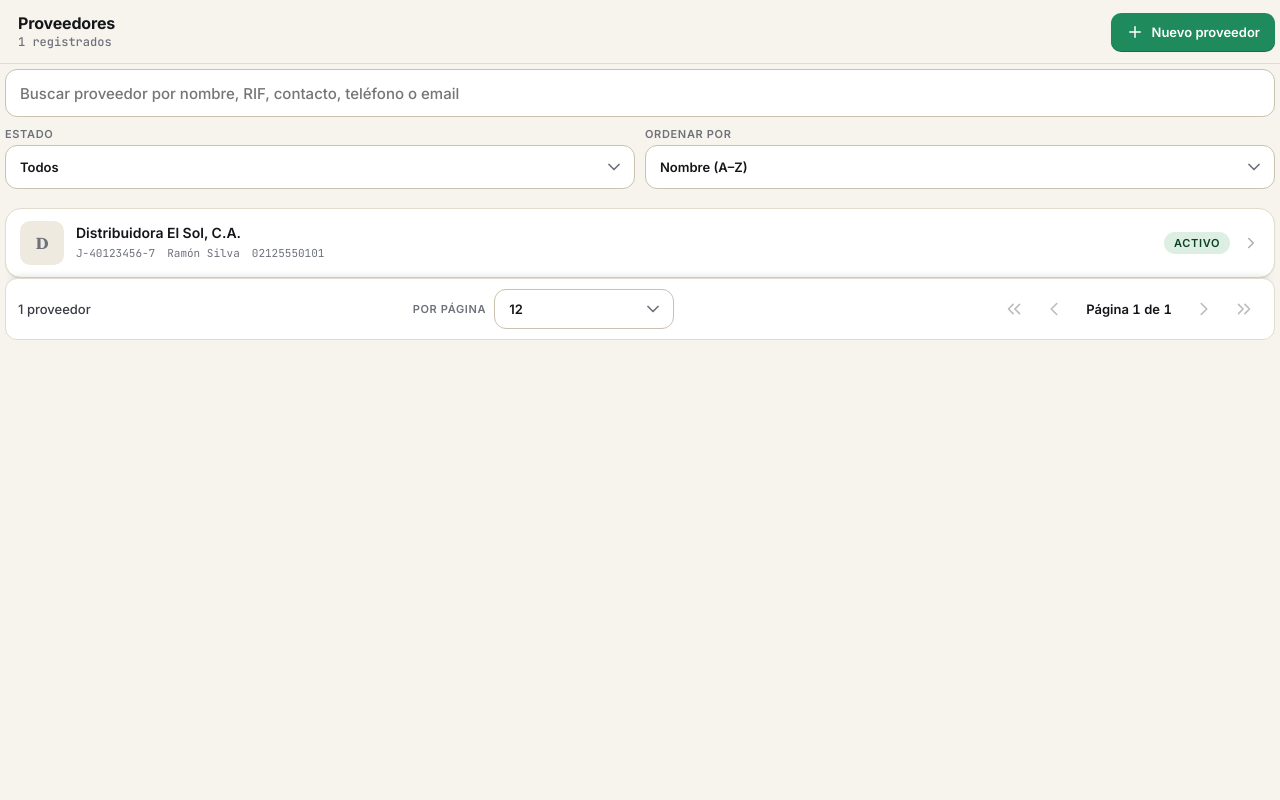
Registrar compra — the two amount fields mirror each other › typing a $ total fills the Bs field, and the last field typed wins
Click the text "Distribuidora El Sol, C.A.": (42, 243) [6,209,1274,277]
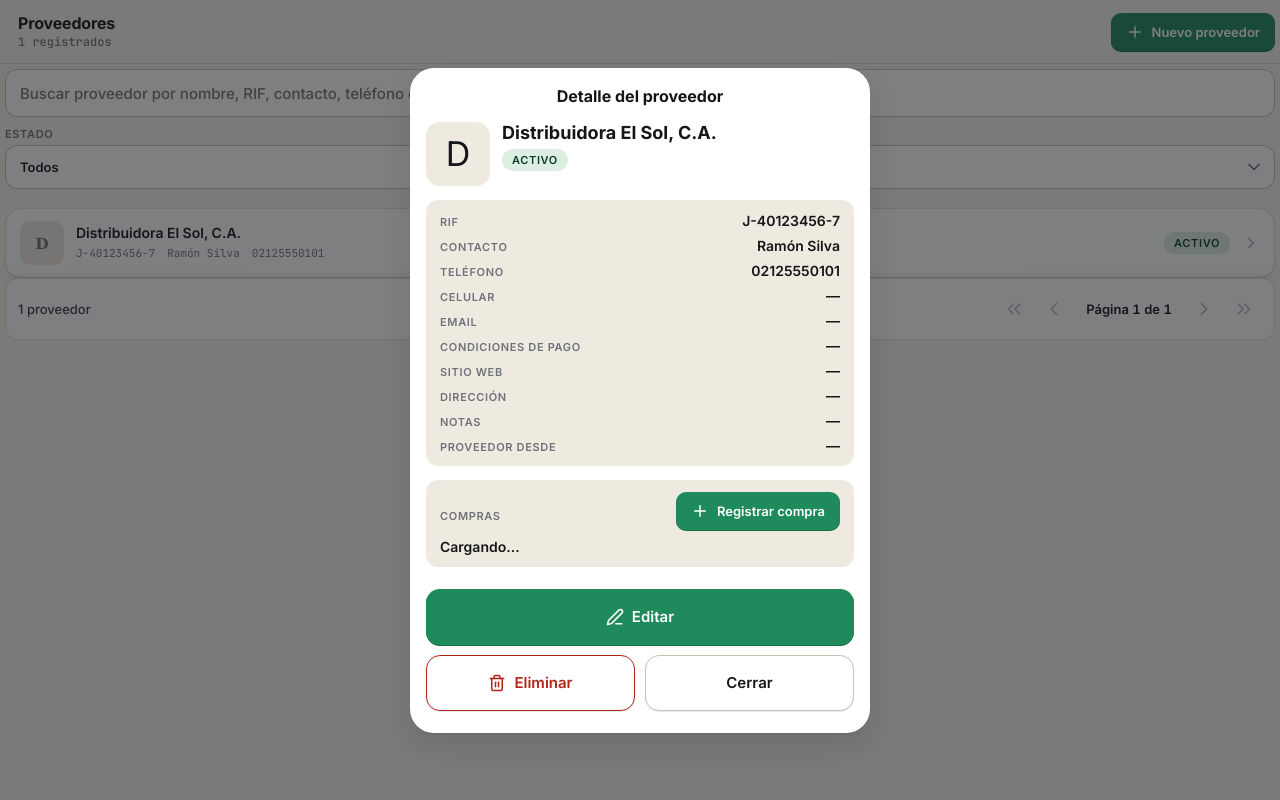
Click the button "Registrar compra": (758, 510) [676,492,840,530]
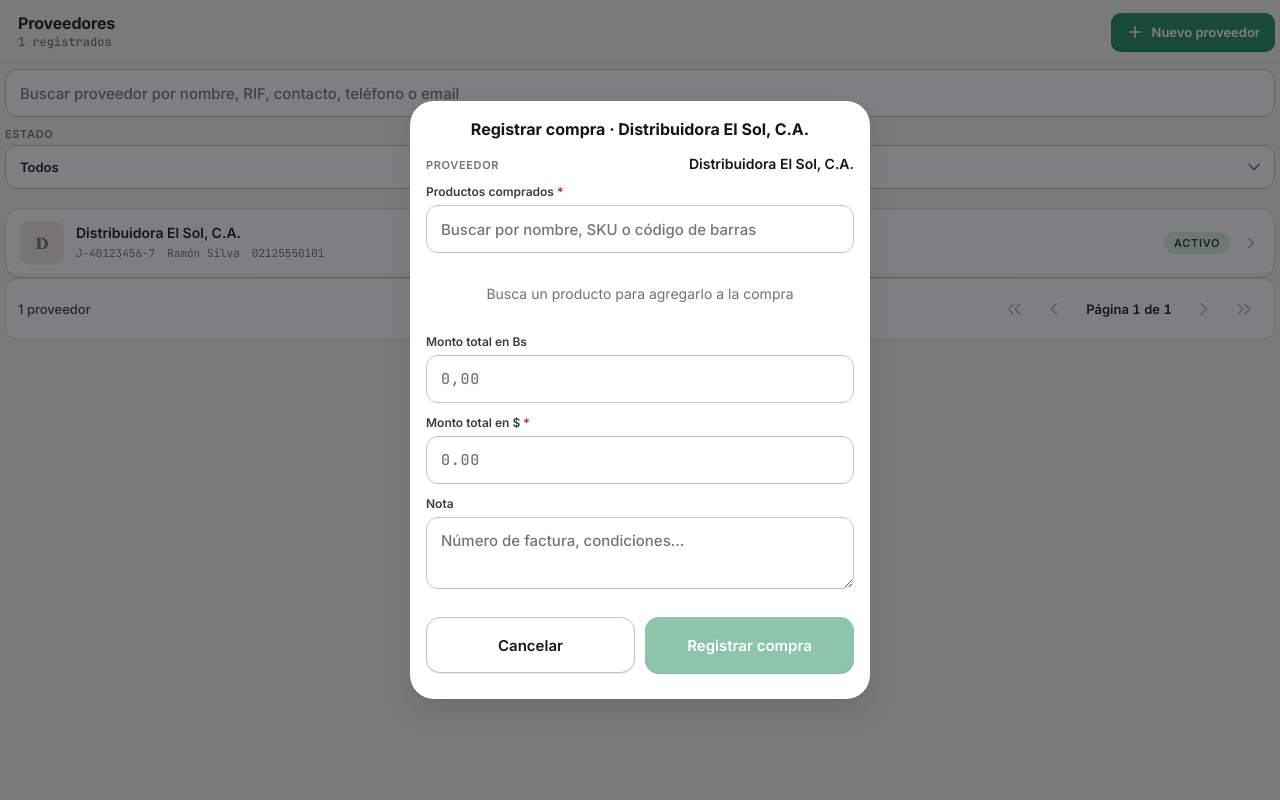
In the field labelled "Monto total en $ *": (640, 460) [426,436,854,484], type "10"
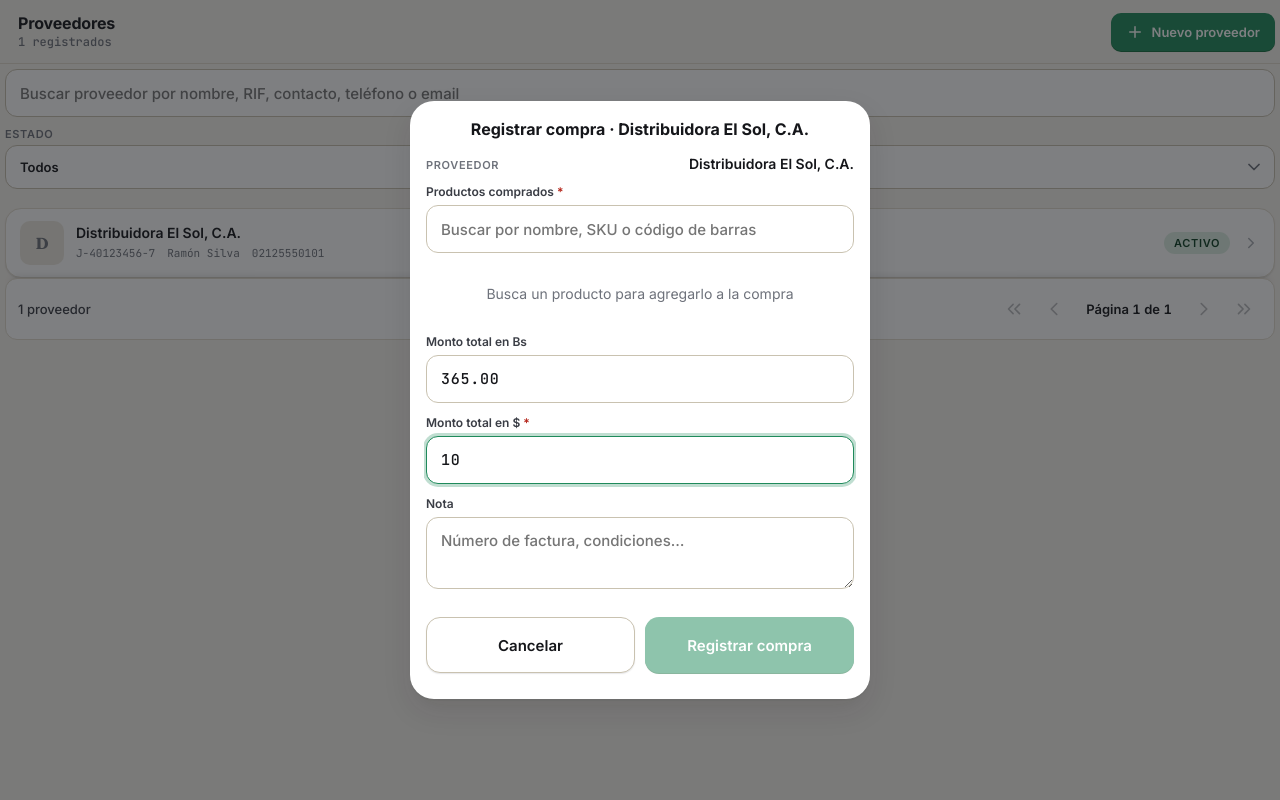
Result: the field labelled "Monto total en Bs" holds "365.00" at [426,355,854,403]
